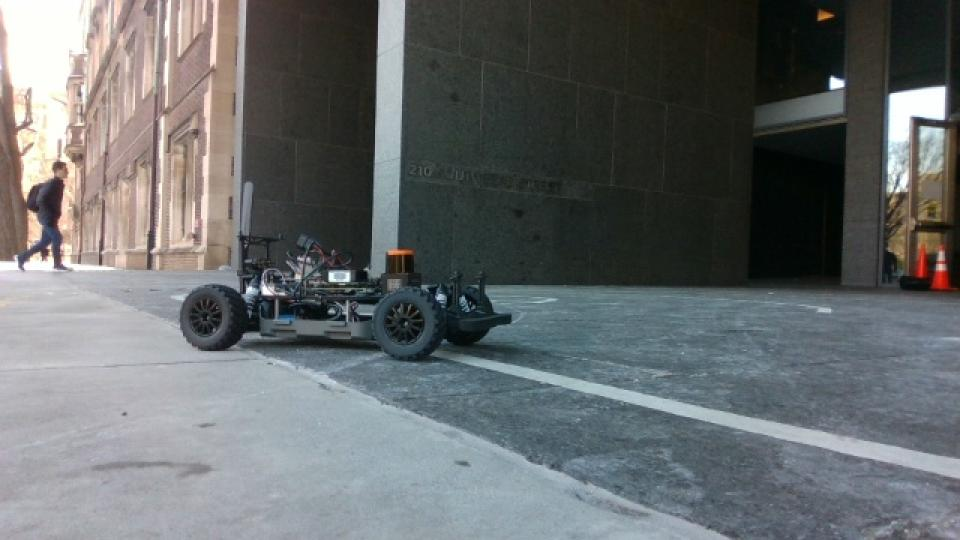car: (174, 229, 514, 369)
